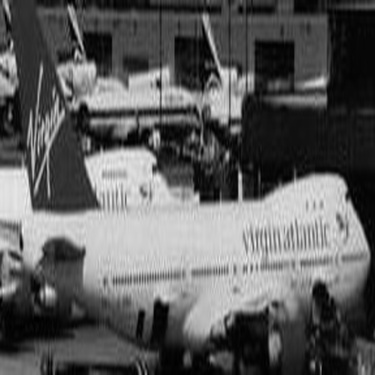airplane: (1, 3, 370, 371), (2, 105, 195, 234), (175, 3, 332, 160), (44, 45, 216, 156), (3, 1, 109, 106), (1, 1, 35, 82)
